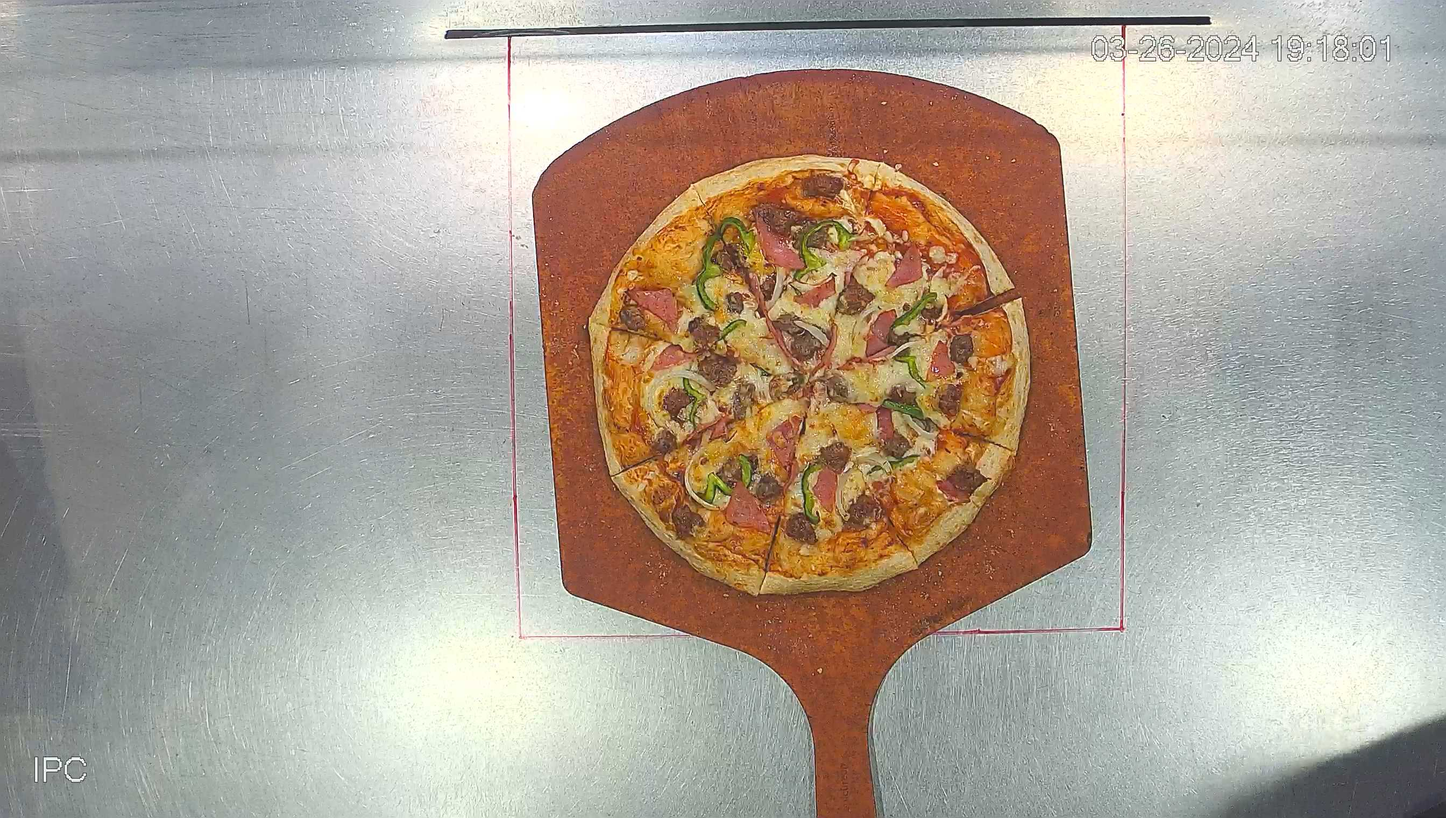hawaiian: (589, 152, 1034, 596)
